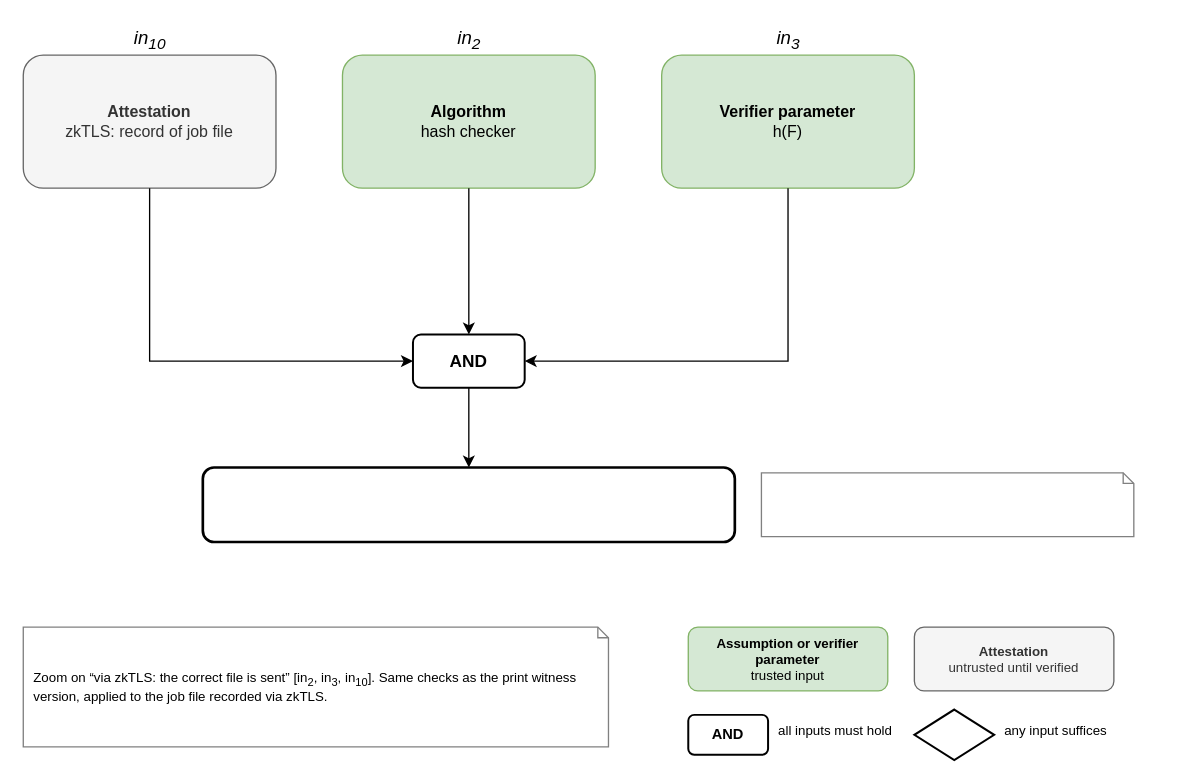
The diagram is 1185 pixels wide and 783 high, and some of its shapes have lost their labels. The shapes that lost their labels are listed below. From the top down, each one's centre as x and y in pixels, then its label:
At [468,504]: "E: via zkTLS: the correct file is sent".
At [947,504]: "E = in 10 ∧ in 2 ∧ in 3".
At [954,734]: "OR".
